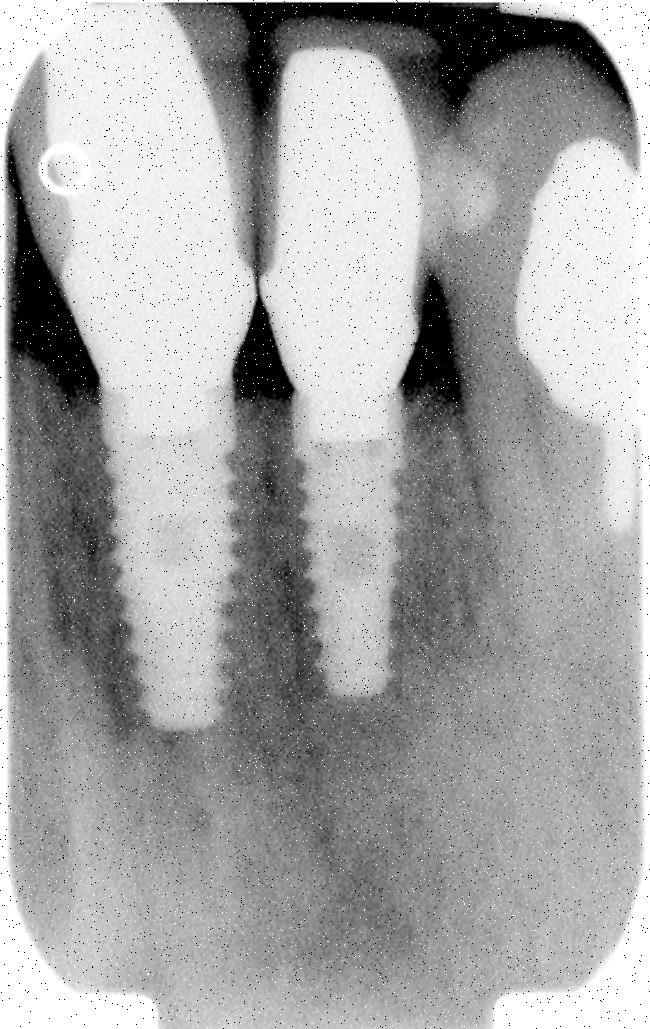BioHorizons: (100, 380, 262, 738), (294, 388, 403, 699)
